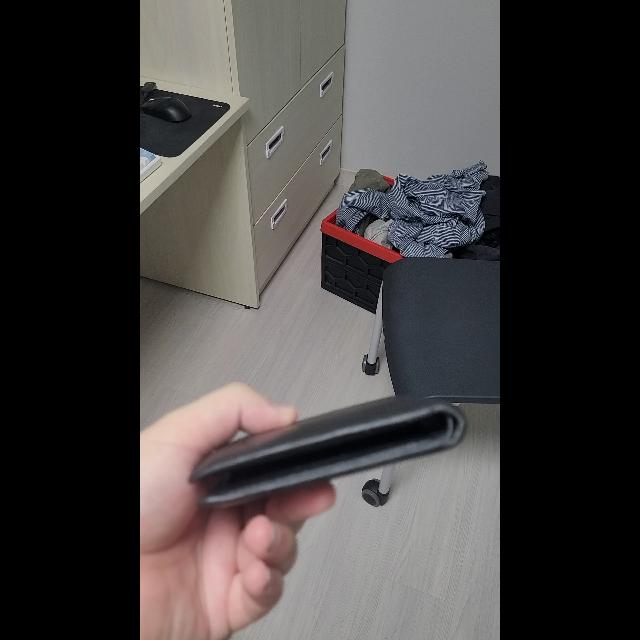WALLET: (188, 395, 468, 509)
